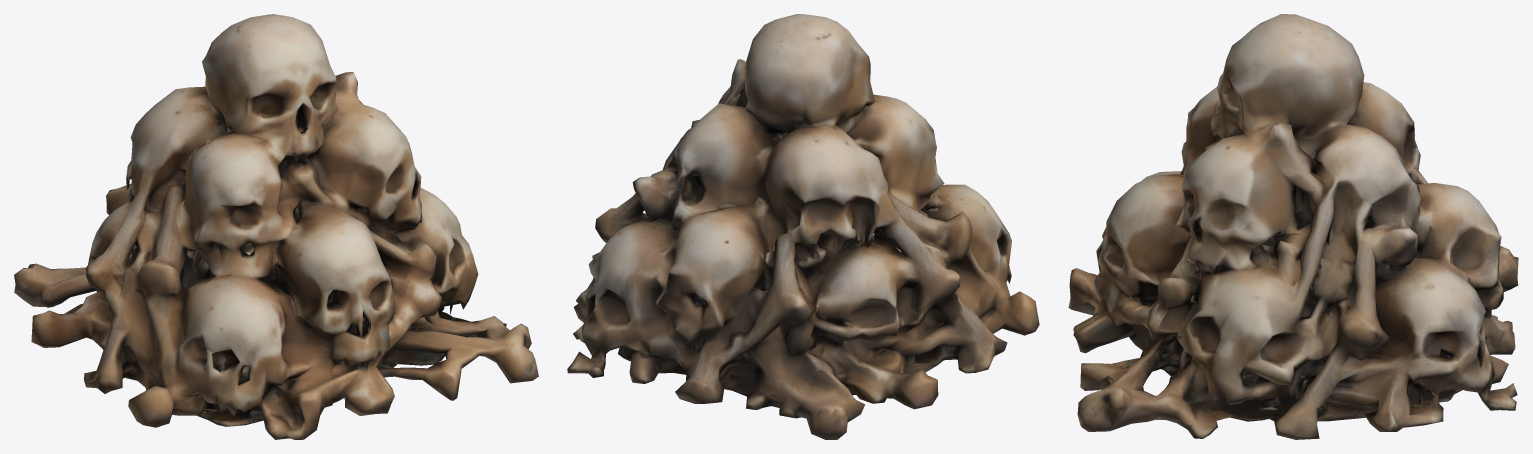
File: bone_pile.glb
The picture shows the model from 3 angles, left to right: view 1: azimuth 30°, elevation 25°; view 2: azimuth 150°, elevation 25°; view 3: azimuth 270°, elevation 25°; orthographic projection. The views are drawn at different scales.
Bounding box in the file's own units: 2 × 1.62 × 2.
Materials: 1 (1 with a texture image).
